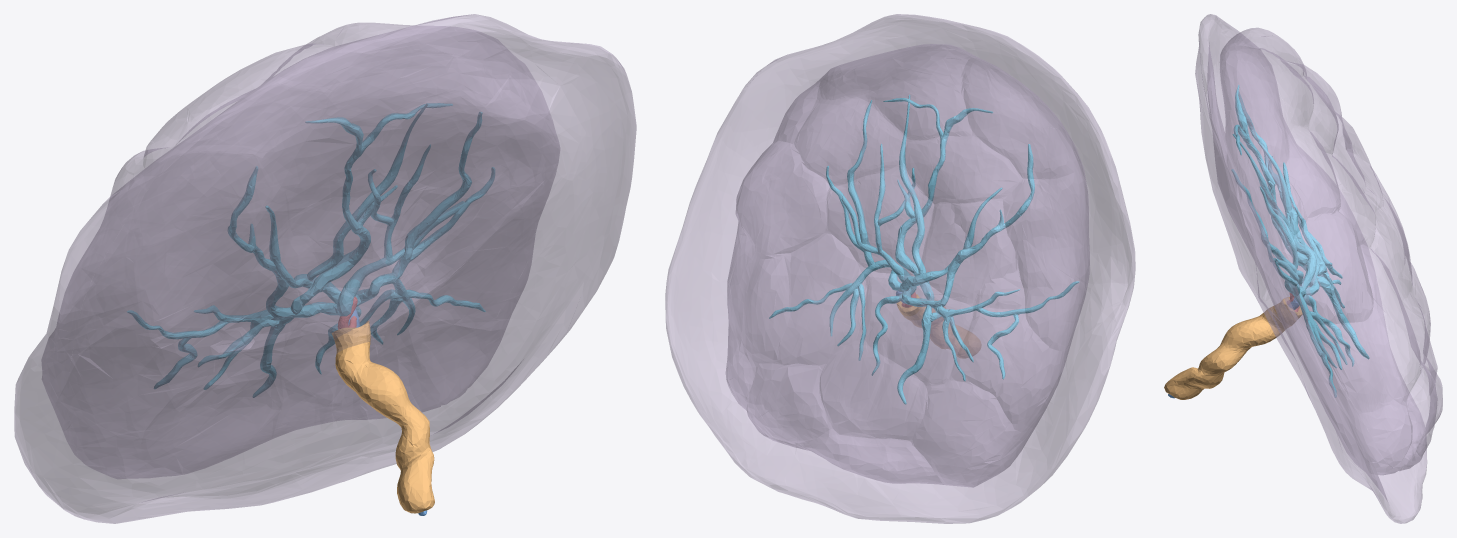
The model's file is organ-placenta.glb.
3 views of the same model, side by side, from view 1: azimuth 30°, elevation 25°; view 2: azimuth 150°, elevation 25°; view 3: azimuth 270°, elevation 25° (orthographic). The views are drawn at different scales.
Parts seen in each view (by area): view 1: amnion, basal-plate, placenta-vessels, umbilical-cord, chorionic-plate; view 2: amnion, basal-plate, chorionic-plate, placenta-vessels, umbilical-cord; view 3: basal-plate, amnion, chorionic-plate, placenta-vessels, umbilical-cord.
Boxes of the visible parts, x1,y1,x2,y2 form: amnion: (14,14,636,523); basal-plate: (41,22,544,458); placenta-vessels: (127,103,494,397); umbilical-cord: (331,321,434,513); chorionic-plate: (82,109,559,478); amnion: (665,14,1135,523); basal-plate: (725,44,1088,487); chorionic-plate: (727,49,1089,485); placenta-vessels: (769,94,1079,404); umbilical-cord: (896,294,980,357); basal-plate: (1222,27,1442,470); amnion: (1195,14,1427,523); chorionic-plate: (1219,39,1406,475); placenta-vessels: (1231,85,1369,397); umbilical-cord: (1164,297,1302,399).
Bounding box in the file's own units: 0.251 × 0.2307 × 0.134.
